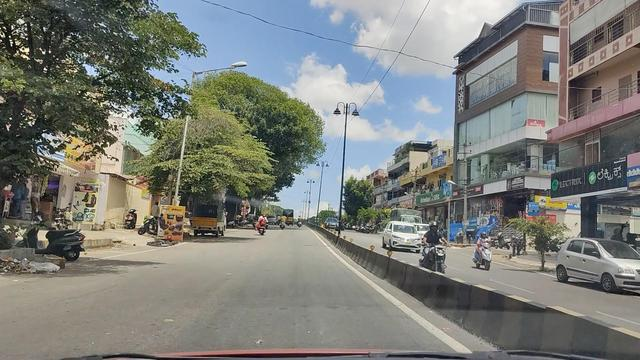HMV: (186, 183, 226, 241)
